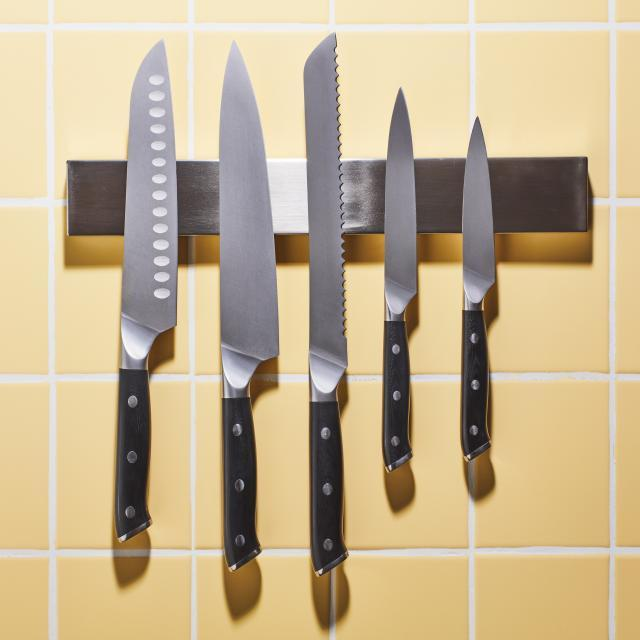rifle: (214, 36, 285, 579), (110, 30, 182, 555), (302, 29, 356, 583), (382, 80, 425, 474), (460, 105, 501, 465)
